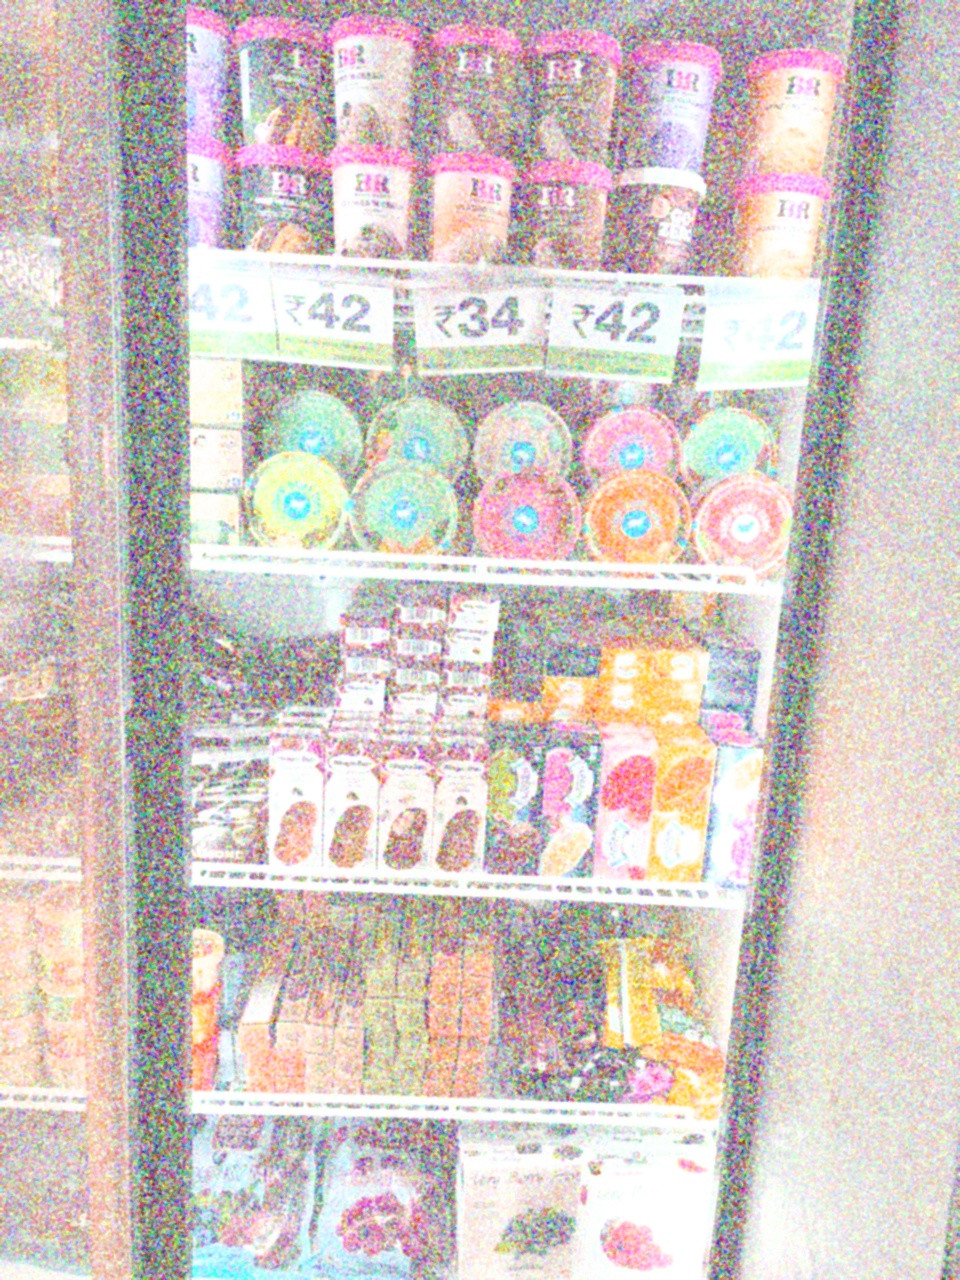Haagen-Dazs IceCream Bars: (415, 739, 499, 878), (366, 734, 441, 878), (319, 729, 385, 874), (263, 728, 327, 869), (441, 636, 499, 678), (447, 593, 504, 635), (395, 595, 450, 632), (340, 616, 392, 654), (438, 689, 501, 719), (331, 681, 390, 713), (381, 687, 439, 712)
